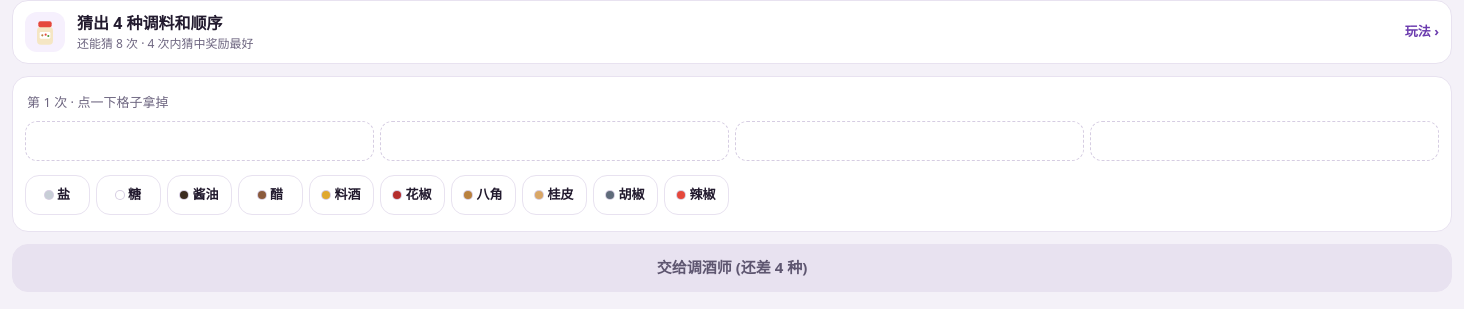
Test: SpicePanel › 出错（局没了或别的错）：清掉已选，按概览重新读
The image size is (1464, 309).
Click the button "盐": click(58, 194) [25,174,90,214]
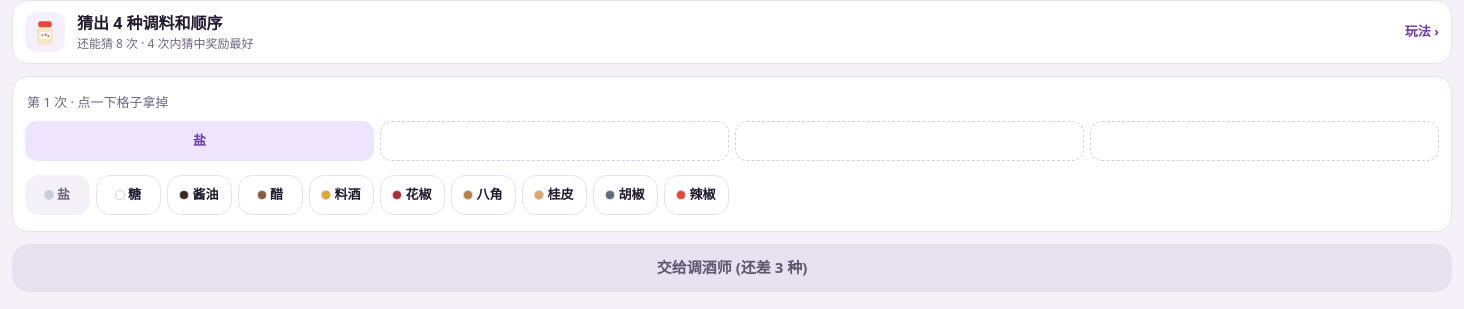
Click the button "糖": click(128, 194) [96,174,161,214]
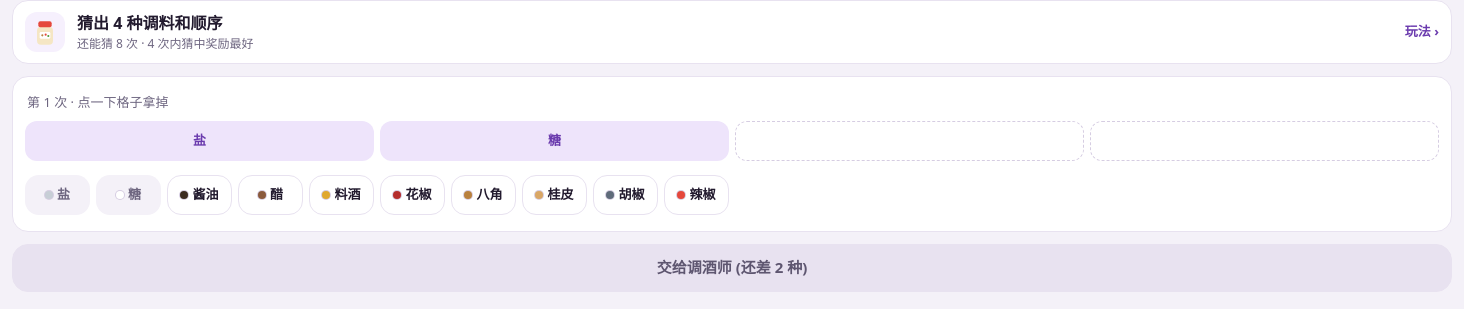
Click the button "酱油": click(200, 194) [167,174,232,214]
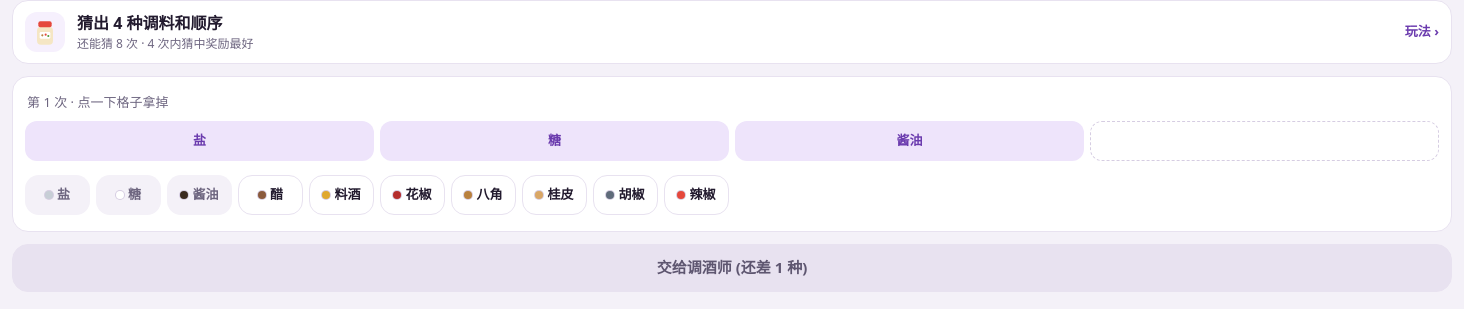
Click the button "醋": click(270, 194) [238,174,303,214]
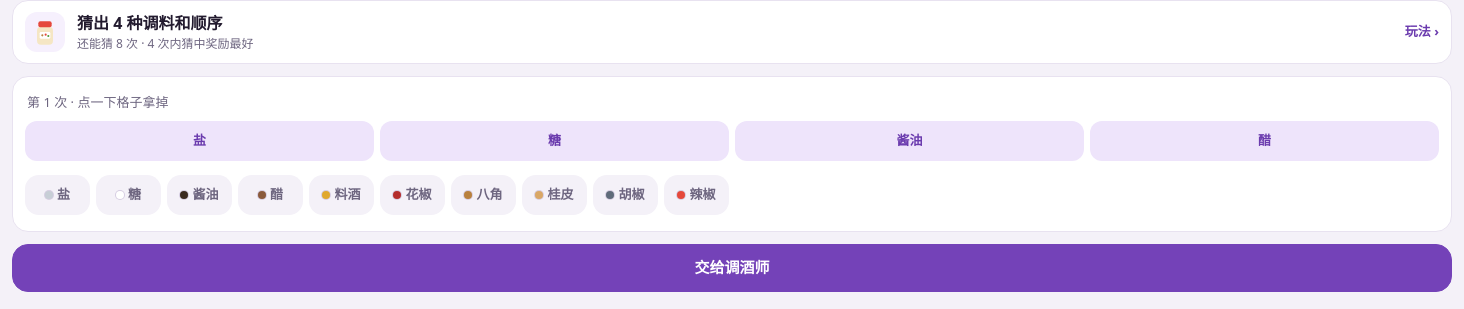
Click the button with test id "spice-submit": click(732, 268) [12,244,1452,292]
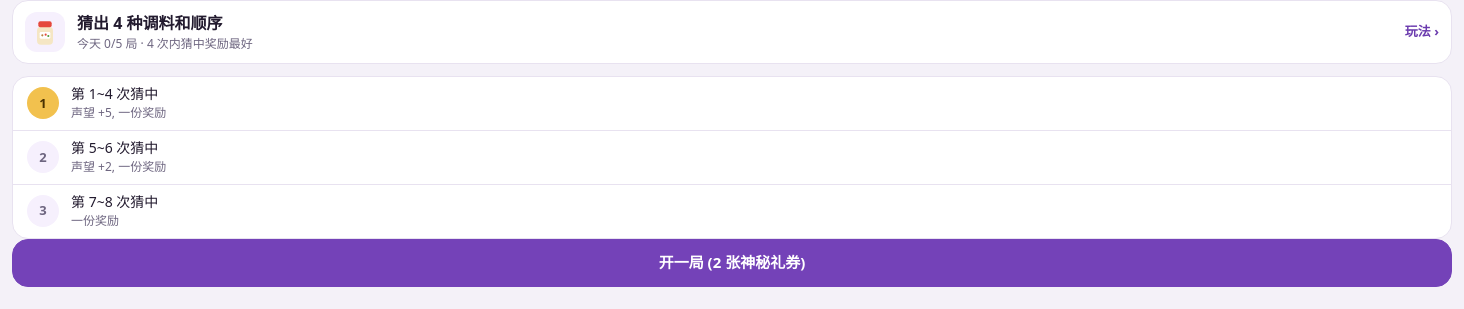
Result: the button with test id "spice-start" is shown at [12,239,1452,287]
